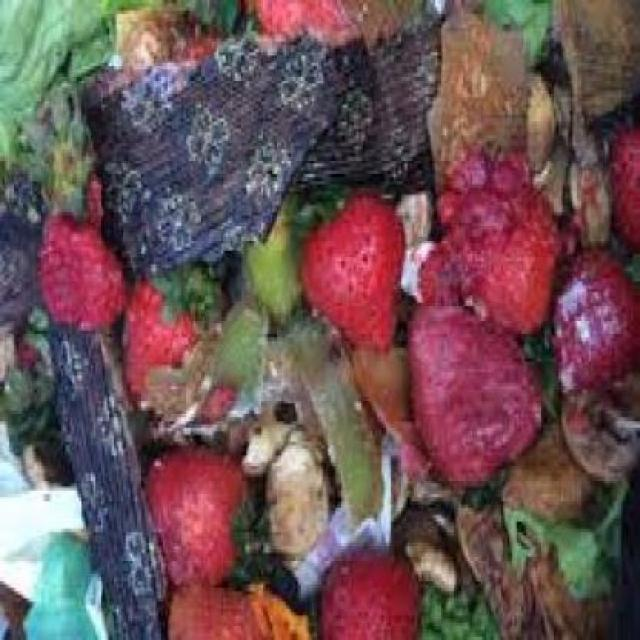garbage: (4, 0, 633, 622)
